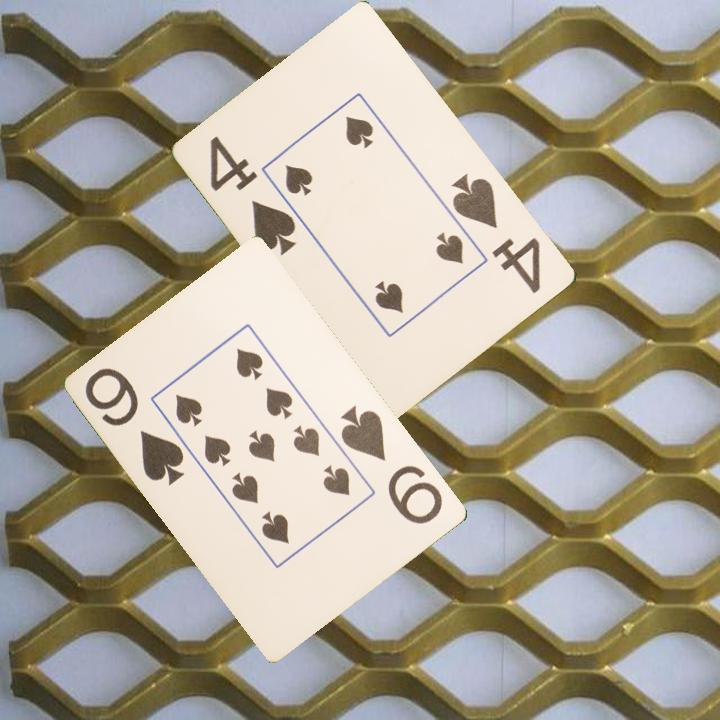4s: (448, 170, 545, 297), (206, 132, 301, 259)
9s: (337, 401, 447, 528), (81, 363, 188, 489)
